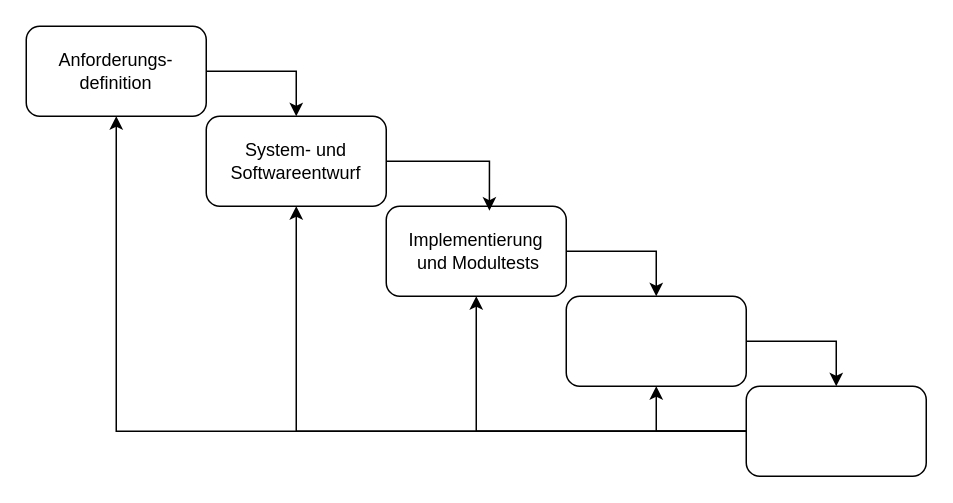
This 953x503 diagram has some shape labels left out. Here are the shapes that lost their labels. From the top down, the centre of each, then its label:
At (x=655, y=340): "Integration und Systemtests".
At (x=835, y=430): "Betrieb und Wartung".
